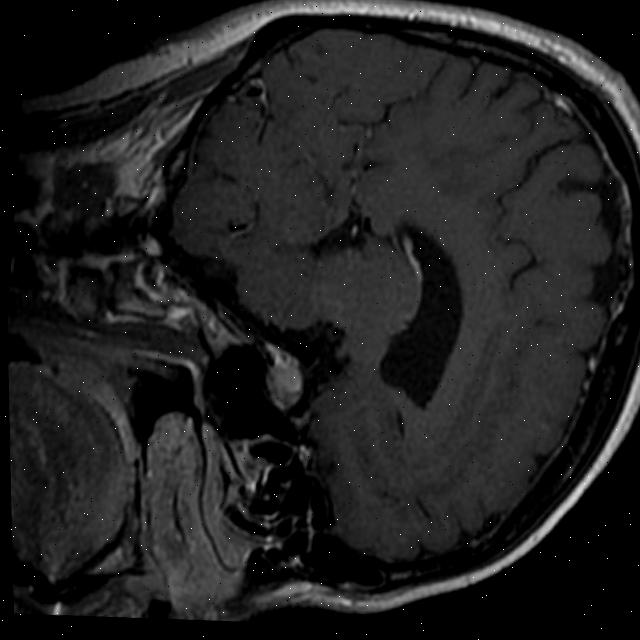Pituitary: (259, 347, 306, 416)
